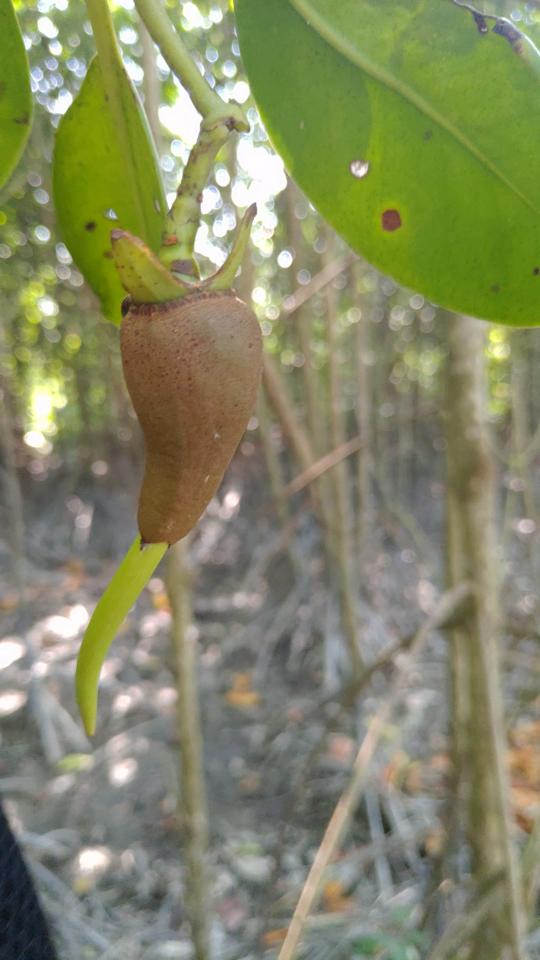mentah: (35, 214, 296, 778)
